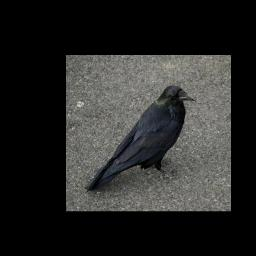Crow: (84, 85, 196, 193)
